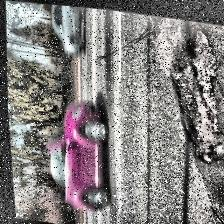pothole: (160, 16, 224, 162)
